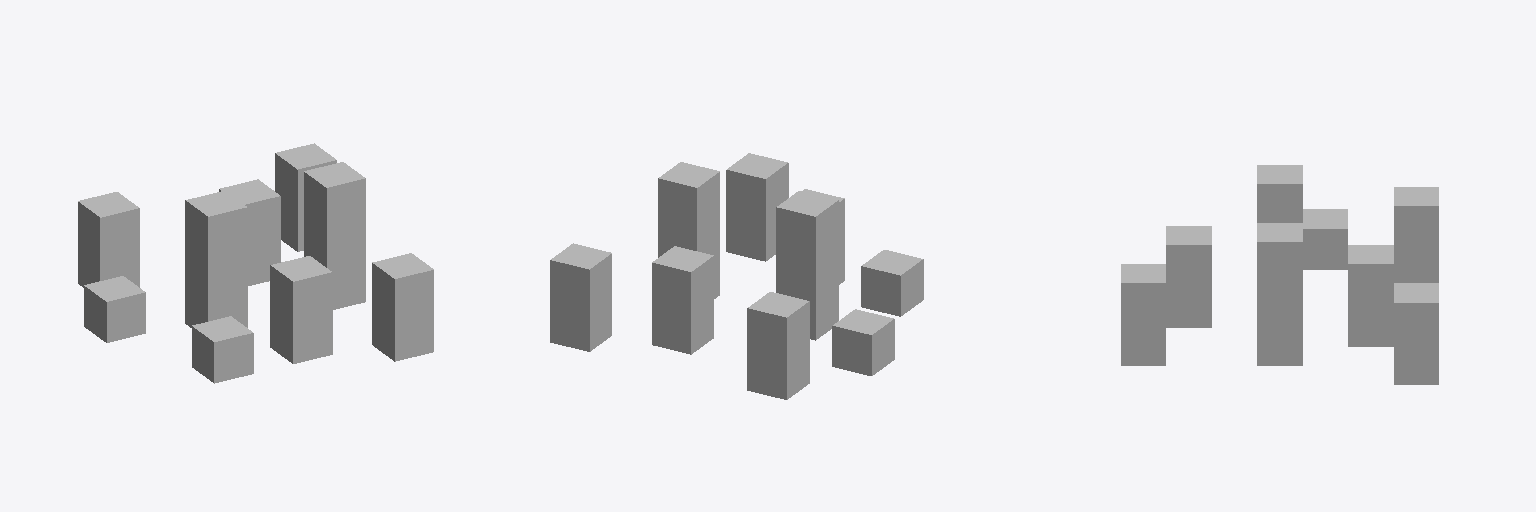
The model's file is grass-0.obj.
3 views of the same model, side by side, from view 1: azimuth 30°, elevation 25°; view 2: azimuth 150°, elevation 25°; view 3: azimuth 270°, elevation 25° (orthographic).
Parts seen in each view (by area): view 1: object 1; view 2: object 1; view 3: object 1.
Part boxes in pixels (x1,y1,x2,y2): object 1: (78, 143, 433, 383); object 1: (550, 153, 923, 399); object 1: (1121, 165, 1438, 384).
Size of the model in its own units: 0.7 by 0.3 by 0.7.